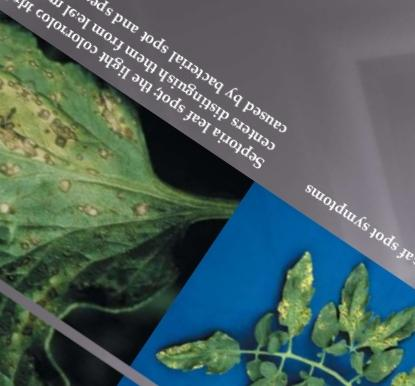Tomato Septoria leaf spot: (0, 51, 241, 353), (148, 296, 257, 386), (253, 247, 348, 348), (300, 247, 396, 345), (217, 347, 303, 386)
